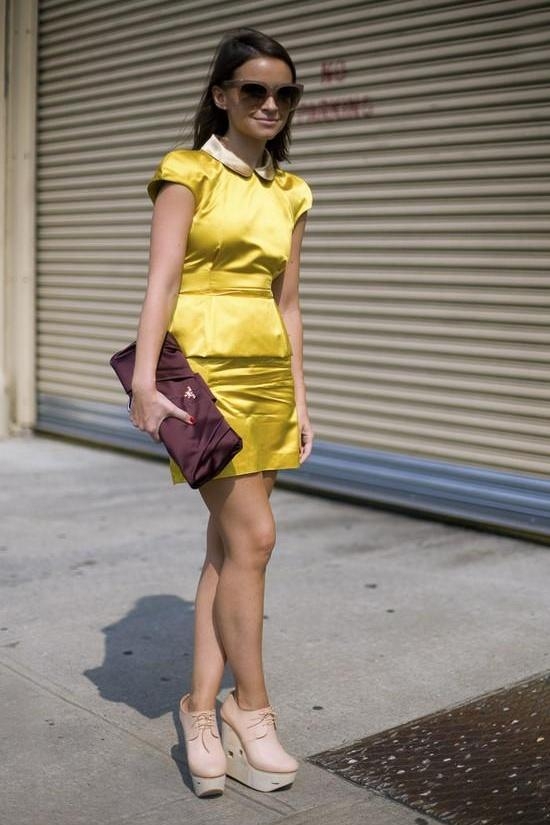dress: (146, 136, 312, 482)
